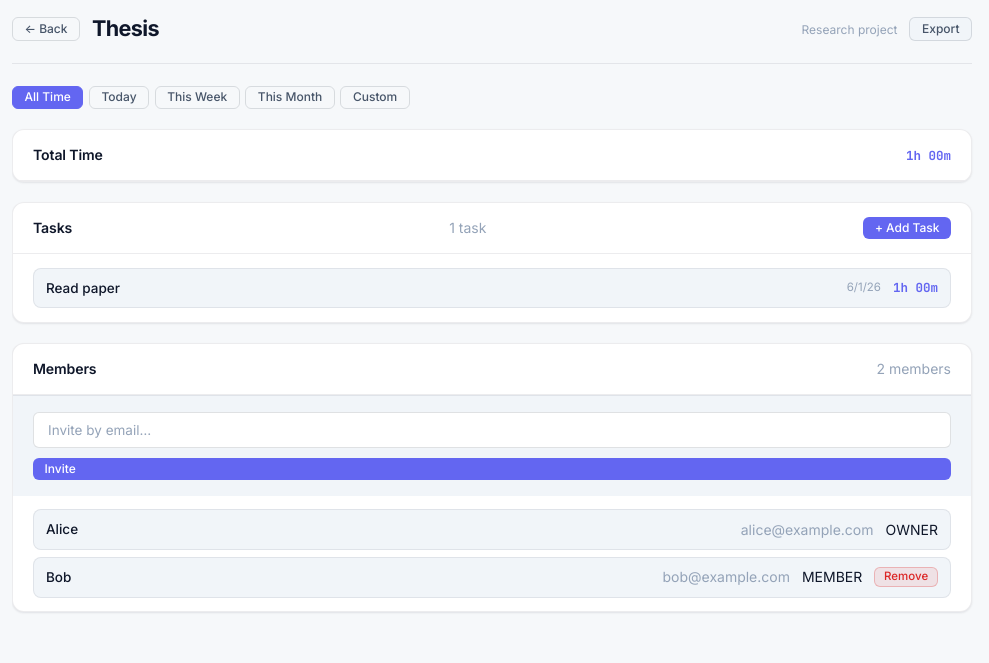
ProjectDetailPage › shows error message when invite fails
Expected: the form with test id "invite-form" is shown, 13,395 -> 971,496
Type "unknown@x.com" into the field with test id "invite-email-input" at (492, 430), box 33,412 -> 951,448
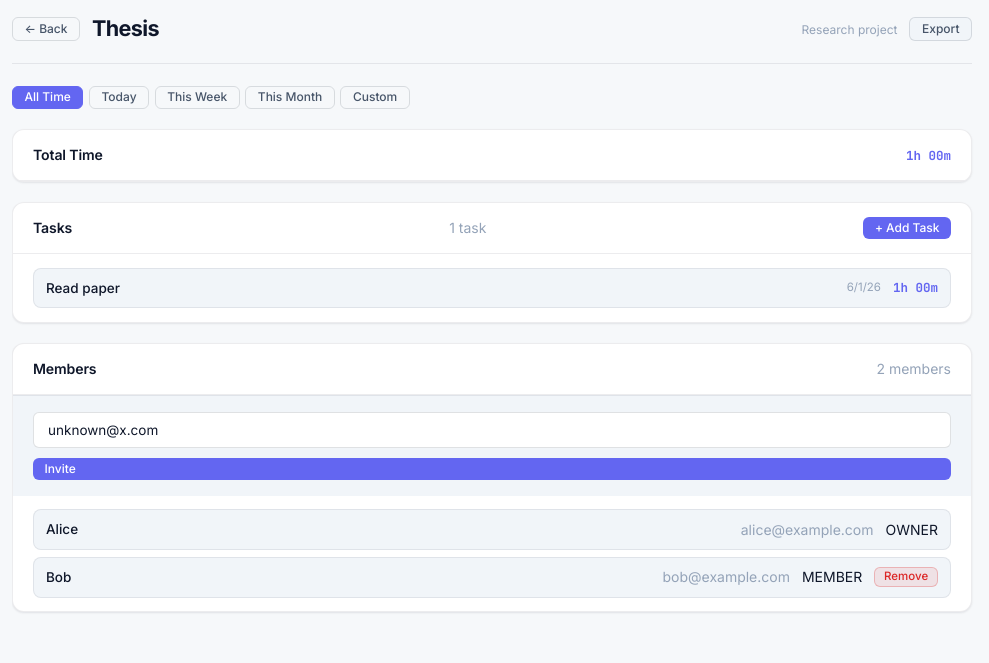
Click the button with test id "invite-submit-btn" at (60, 468), box 33,458 -> 951,480
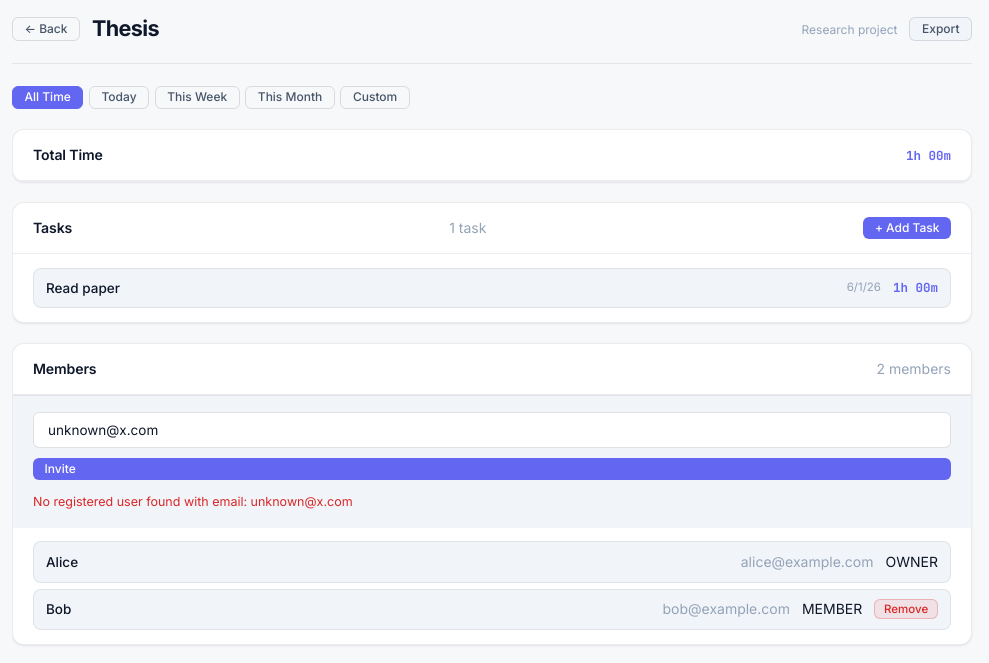
Now the message with test id "invite-error" shows "No registered user found", box 33,494 -> 353,509
